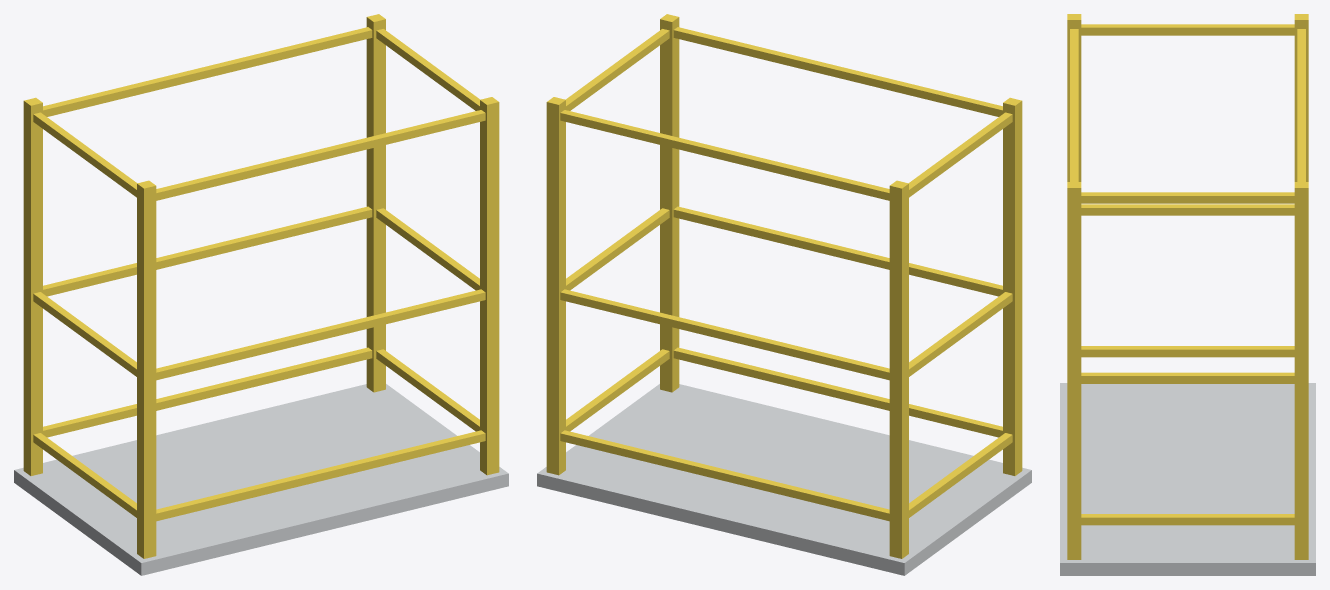
The model's file is propane_cage.glb.
The picture shows the model from 3 angles, left to right: view 1: azimuth 30°, elevation 25°; view 2: azimuth 150°, elevation 25°; view 3: azimuth 270°, elevation 25°; orthographic projection.
Parts seen in each view (by area): view 1: propane_cage; view 2: propane_cage; view 3: propane_cage.
Boxes of the visible parts, left/top/right/bottom form: propane_cage: left=14, top=14, right=508, bottom=575; propane_cage: left=537, top=14, right=1031, bottom=575; propane_cage: left=1060, top=14, right=1315, bottom=575.
Bounding box in the file's own units: 1.5 × 1.5 × 0.9.
